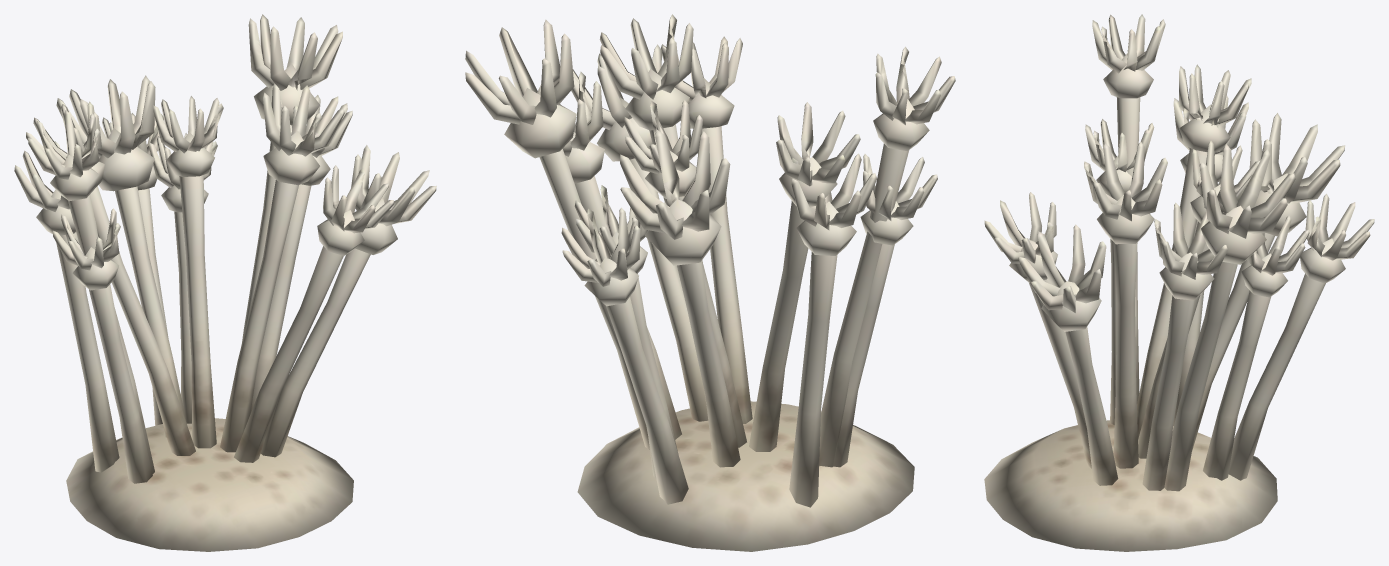
Rendered from nature-coral-xenia-001.glb.
3 renders of one model, left to right at view 1: azimuth 30°, elevation 25°; view 2: azimuth 150°, elevation 25°; view 3: azimuth 270°, elevation 25°, orthographic. The views are drawn at different scales.
Visible parts, largest first — view 1: 08_Pulsing_Xenia_LOD0; view 2: 08_Pulsing_Xenia_LOD0; view 3: 08_Pulsing_Xenia_LOD0.
Part boxes in pixels (bbox=[...]): 08_Pulsing_Xenia_LOD0: bbox=[14, 14, 436, 551]; 08_Pulsing_Xenia_LOD0: bbox=[465, 14, 955, 551]; 08_Pulsing_Xenia_LOD0: bbox=[984, 14, 1374, 551].
Size of the model in its own units: 0.2283 by 0.2411 by 0.2105.
Materials: 1 (1 with a texture image).
